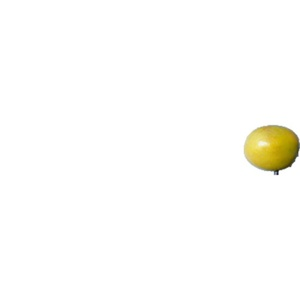maracujá: (244, 126, 300, 176)
